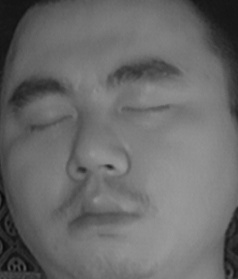blink: (122, 91, 169, 130), (25, 105, 74, 137)
mouth: (54, 185, 150, 244)
